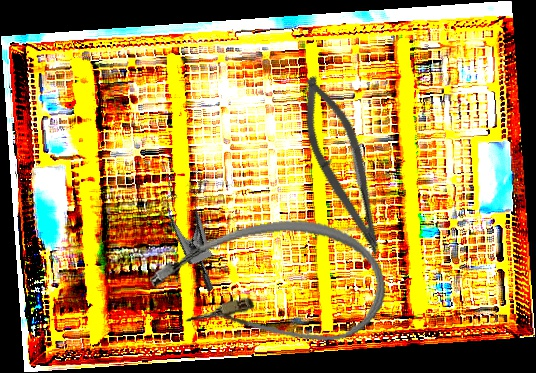Cannula: (144, 206, 393, 369)
Micro Scissor: (284, 69, 406, 263)
Speculum: (141, 158, 259, 294)
